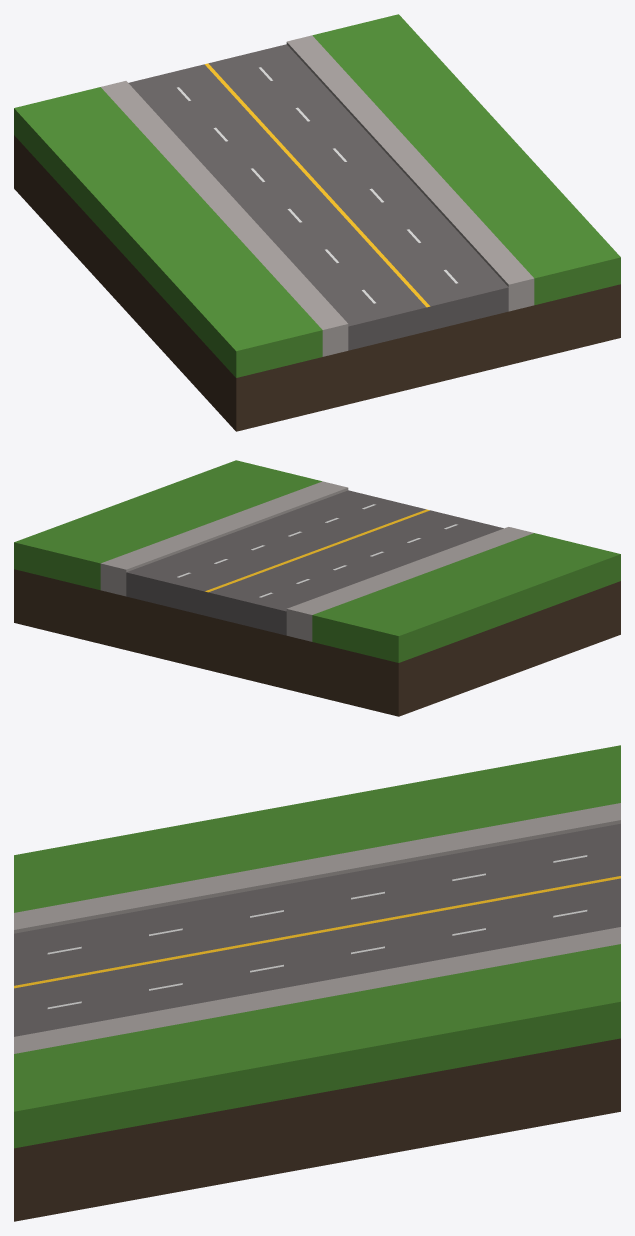
File: tile-mainroad-hill.fbx
3 renders of one model, top to bottom at view 1: azimuth 30°, elevation 25°; view 2: azimuth 150°, elevation 25°; view 3: azimuth 270°, elevation 25°, orthographic. The views are drawn at different scales.
Visible parts, largest first — view 1: tile-mainroad-hill; view 2: tile-mainroad-hill; view 3: tile-mainroad-hill.
Part boxes in pixels (x1,y1,x2,y2): tile-mainroad-hill: (14, 14, 620, 431); tile-mainroad-hill: (14, 460, 620, 716); tile-mainroad-hill: (14, 745, 620, 1221).
Bounding box in the file's own units: 30 × 12 × 30.
